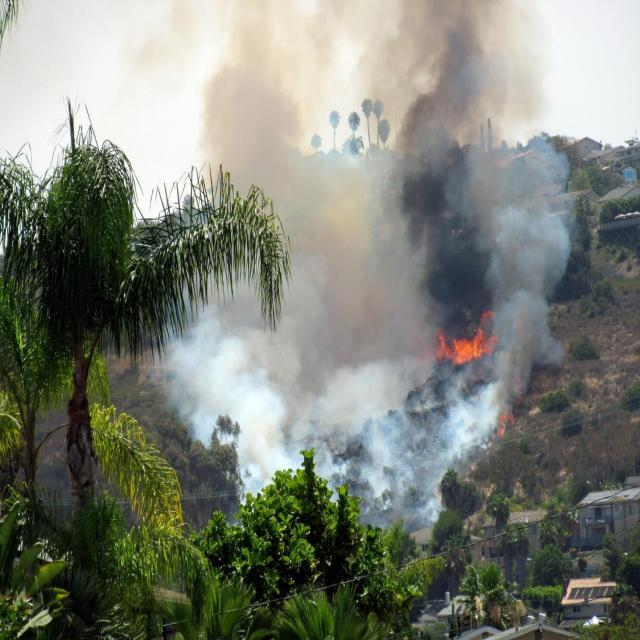Fire: (437, 320, 495, 373)
Smoke: (150, 0, 588, 498)
